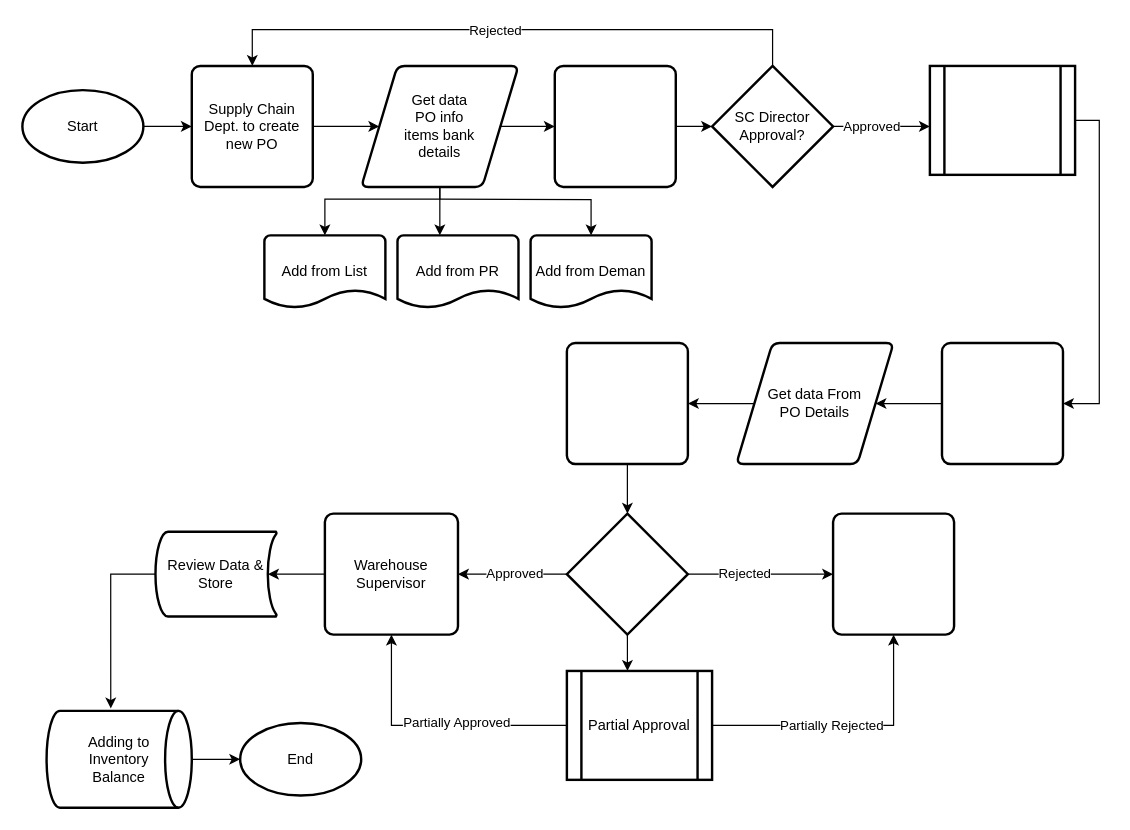
The diagram is 1130 pixels wide and 830 high, and some of its shapes have lost their labels. Each missing label, with the centre of its shape:
Change State: the point at 1002,119
Hold Area: the point at 893,573
QC Approval?: the point at 626,573
Quality Control (QC): the point at 626,403
Supply Chain Director: the point at 614,126
Warehouse Store keeper to Generates GRN: the point at 1002,403
